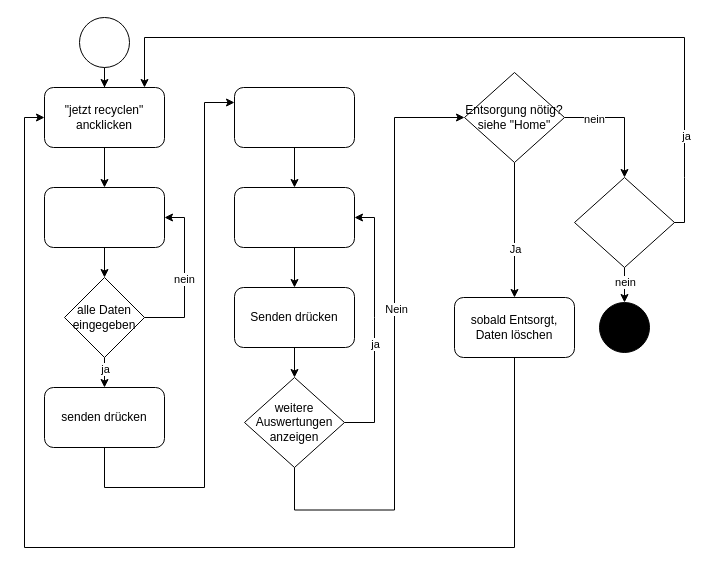
This 710x573 diagram has some shape labels left out. The shapes that lost their labels are listed below. From the top down, each one's box as (x1, y1, x2, y2) in pixels, then its label:
(234, 86, 354, 148): "Auswertung" anklicken
(44, 186, 164, 248): Daten eingeben
(234, 186, 354, 248): Pet, Glas oder Karton anwählen
(574, 176, 674, 268): weitere Dinge zu recyclen?
